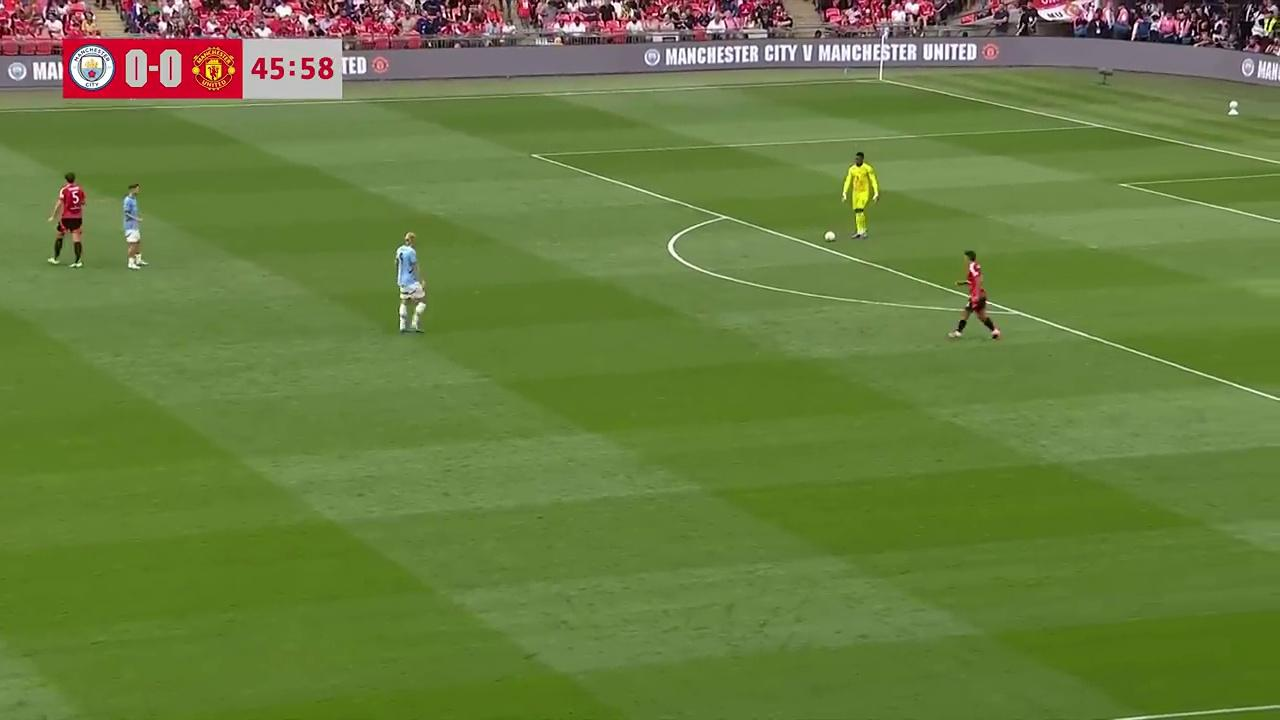ball: (823, 227, 837, 242)
player: (945, 251, 1004, 341), (46, 172, 85, 267), (842, 152, 877, 240), (394, 231, 423, 332), (121, 182, 147, 270)
